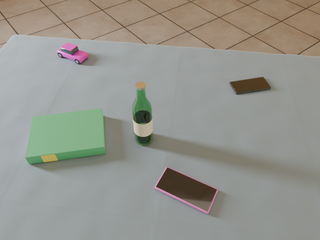book: (25, 109, 106, 164)
bottle: (132, 82, 153, 145)
phone: (155, 167, 218, 214), (230, 77, 271, 94)
toy_car: (57, 43, 88, 64)
